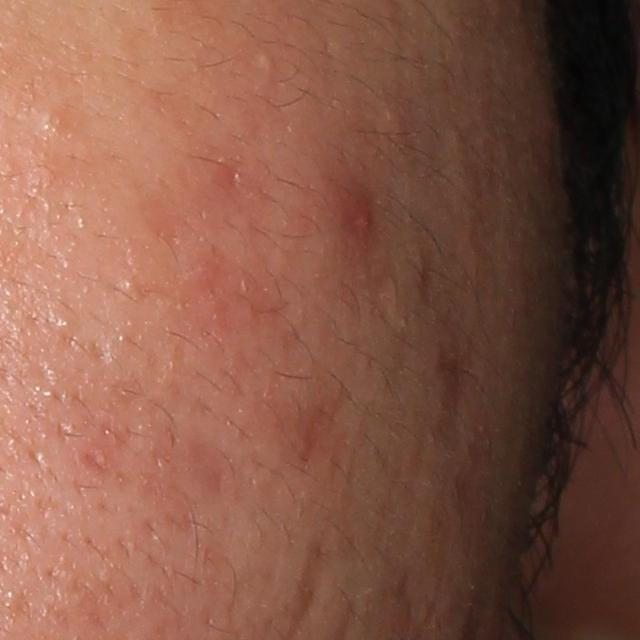comedo: (31, 100, 80, 144), (254, 47, 278, 76), (122, 277, 138, 290)
papule: (349, 201, 374, 235)
